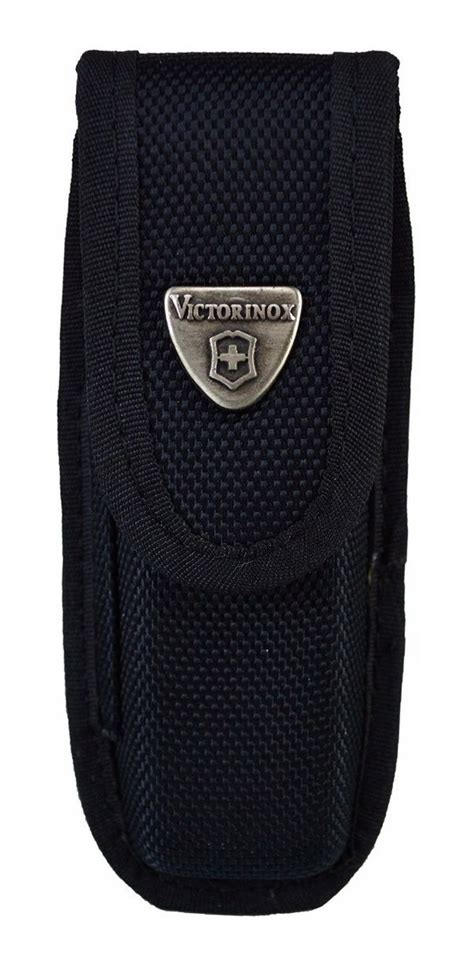nylon: (57, 48, 412, 918)
